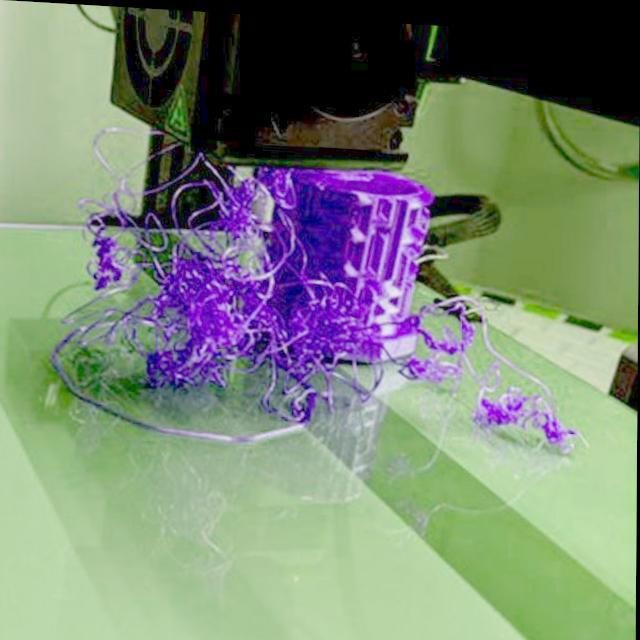spaghetti: (49, 122, 360, 420), (368, 286, 591, 450)
